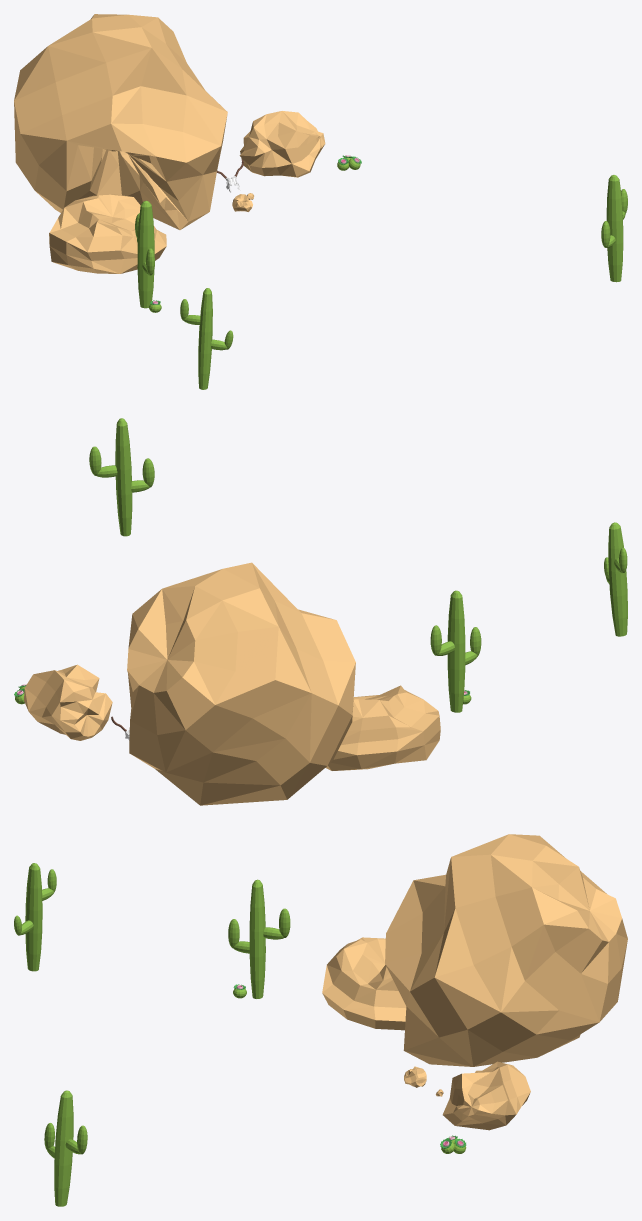
File: Desert scene.glb
3 renders of one model, top to bottom at view 1: azimuth 30°, elevation 25°; view 2: azimuth 150°, elevation 25°; view 3: azimuth 270°, elevation 25°, orthographic. The views are drawn at different scales.
Parts seen in each view (by area): view 1: group1089375564, group1446250878, group1910377098, group1305359395, group809628526; view 2: group1089375564, group1446250878, group1305359395, group1910377098, group809628526; view 3: group1089375564, group1446250878, group1305359395, group1910377098, group809628526.
Boxes of the visible parts, box(x1,y1,x2,y2) form: group1089375564: box(14, 14, 227, 273); group1446250878: box(239, 111, 325, 177); group1910377098: box(601, 175, 627, 282); group1305359395: box(135, 200, 154, 308); group809628526: box(198, 288, 212, 389); group1089375564: box(127, 562, 440, 805); group1446250878: box(24, 664, 112, 740); group1305359395: box(430, 590, 481, 712); group1910377098: box(89, 418, 154, 536); group809628526: box(608, 522, 627, 636); group1089375564: box(322, 834, 627, 1066); group1446250878: box(442, 1061, 530, 1130); group1305359395: box(228, 879, 290, 998); group1910377098: box(44, 1090, 87, 1206); group809628526: box(25, 863, 42, 971).
Size of the model in its own units: 9.29 by 3.5 by 9.7.
